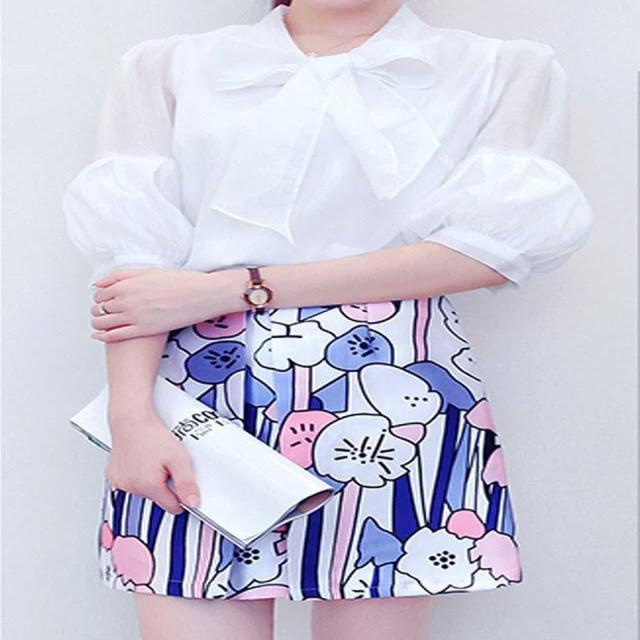long sleeve top: (67, 7, 585, 285)
skirt: (98, 273, 521, 601)
